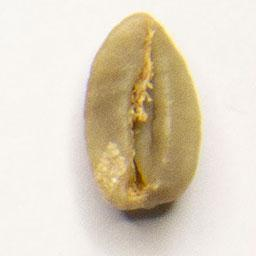longberry: (81, 8, 204, 216)
